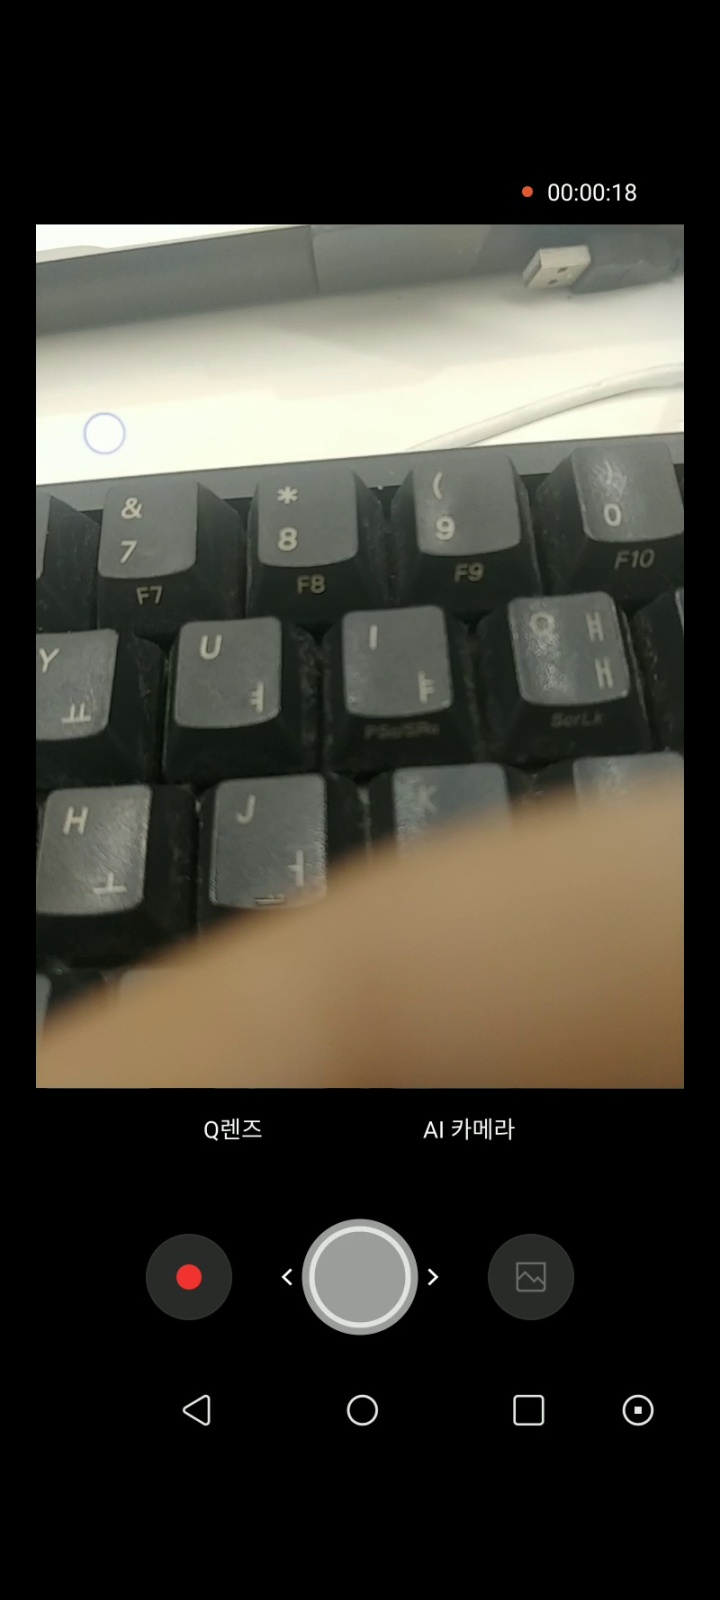Cursor: (82, 412, 127, 457)
